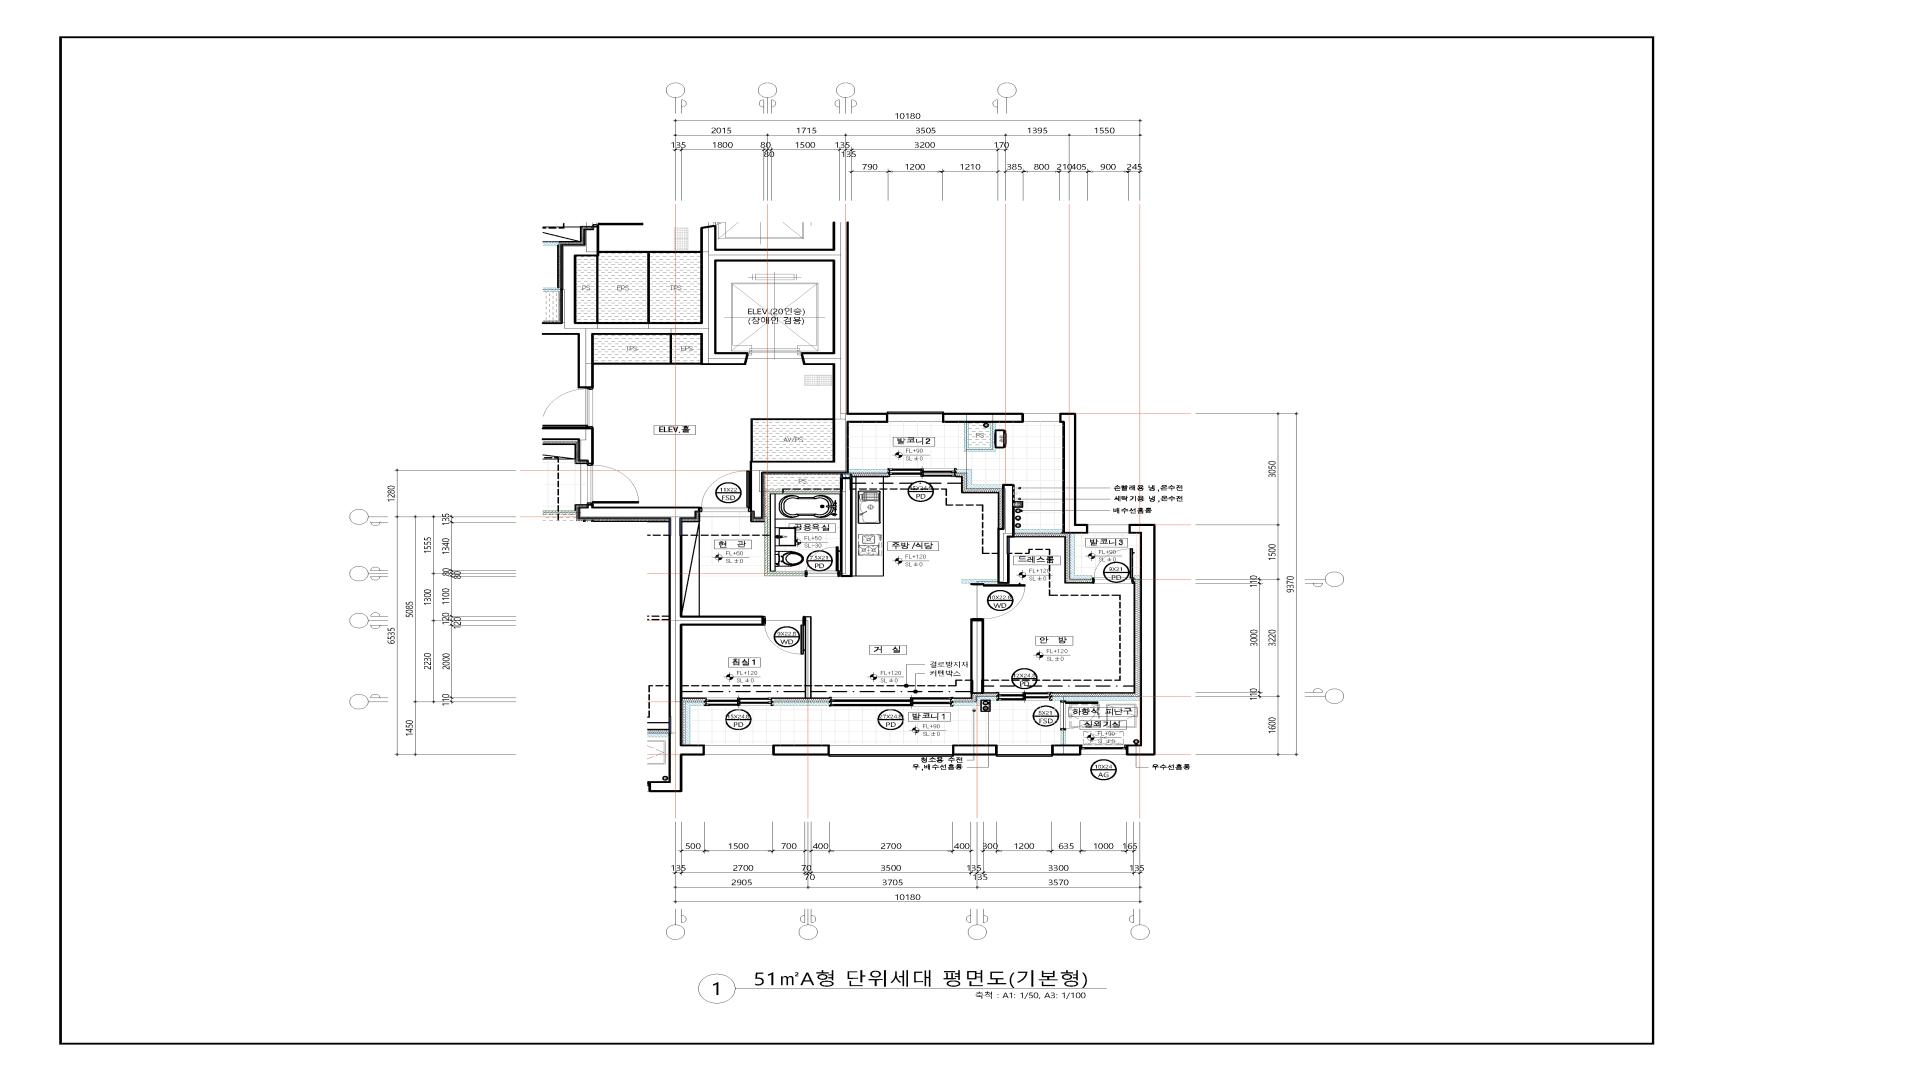door: (580, 464, 640, 504), (699, 471, 750, 512), (542, 388, 593, 426), (971, 584, 1026, 618), (764, 616, 804, 655), (1092, 547, 1134, 584), (1060, 700, 1098, 731), (804, 546, 840, 578)
wall: (560, 224, 887, 520), (579, 504, 764, 756), (961, 484, 1063, 584), (765, 473, 852, 578), (599, 251, 700, 322), (1127, 524, 1155, 756), (1059, 413, 1088, 534), (750, 418, 833, 460), (593, 335, 700, 365), (1069, 534, 1092, 580), (971, 618, 984, 694), (957, 469, 1002, 489), (964, 423, 996, 451), (942, 413, 1023, 423), (771, 745, 829, 756), (578, 426, 593, 464), (804, 616, 811, 698), (952, 745, 998, 756), (953, 696, 997, 705), (1052, 696, 1139, 700), (1051, 745, 1081, 756), (774, 702, 829, 705), (596, 257, 599, 322), (849, 469, 887, 473), (1060, 731, 1065, 745), (1134, 575, 1139, 579)
window: (829, 745, 952, 757), (829, 698, 953, 707), (887, 468, 957, 477), (998, 745, 1051, 757), (704, 745, 771, 754), (886, 411, 944, 422), (704, 698, 774, 705), (996, 692, 1052, 700), (1081, 745, 1127, 754), (1088, 525, 1129, 533), (1023, 414, 1059, 422)
